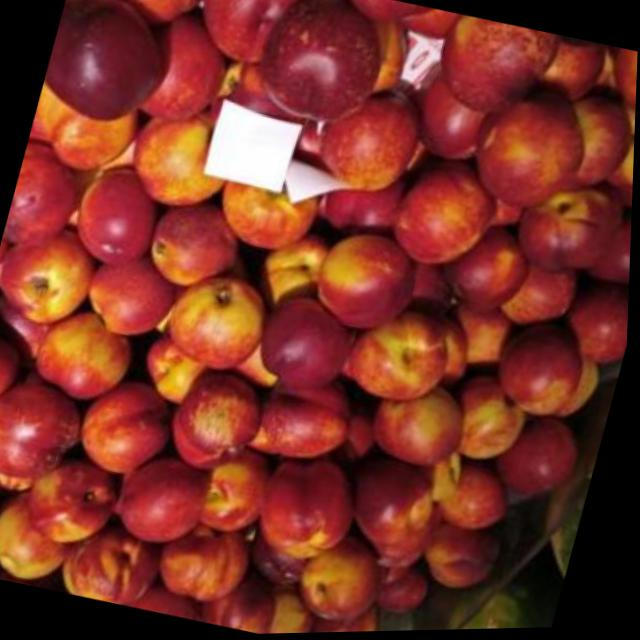Nectarine: (254, 0, 397, 133), (465, 92, 593, 217), (251, 446, 370, 568), (311, 226, 426, 342), (166, 266, 278, 372), (256, 288, 363, 398), (492, 318, 597, 427), (35, 306, 146, 409), (112, 447, 220, 551), (69, 162, 169, 273), (0, 372, 93, 487), (370, 383, 475, 475), (179, 369, 275, 462)
